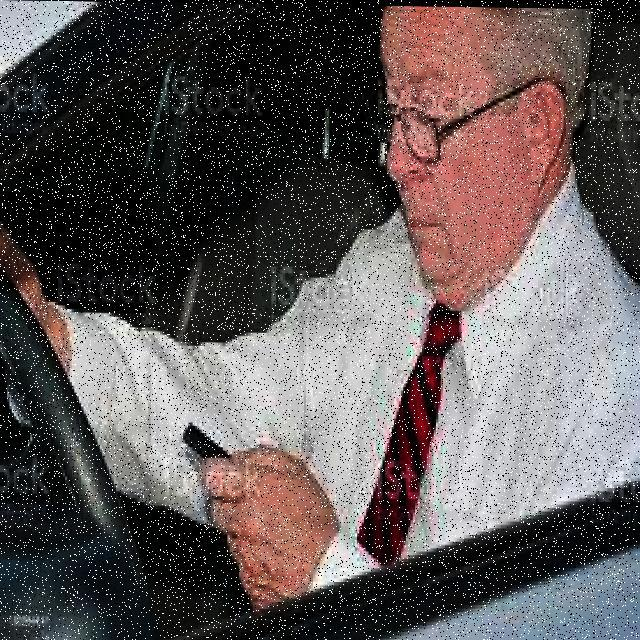noSeatbelt: (288, 186, 638, 613)
